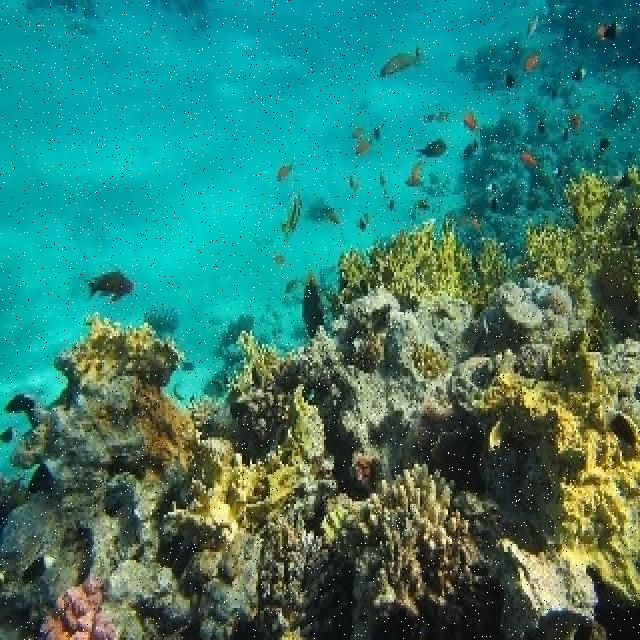fish: (82, 268, 133, 303), (380, 43, 425, 76)
reefs: (339, 171, 638, 608), (69, 310, 324, 548), (251, 462, 494, 637), (32, 580, 126, 637)
